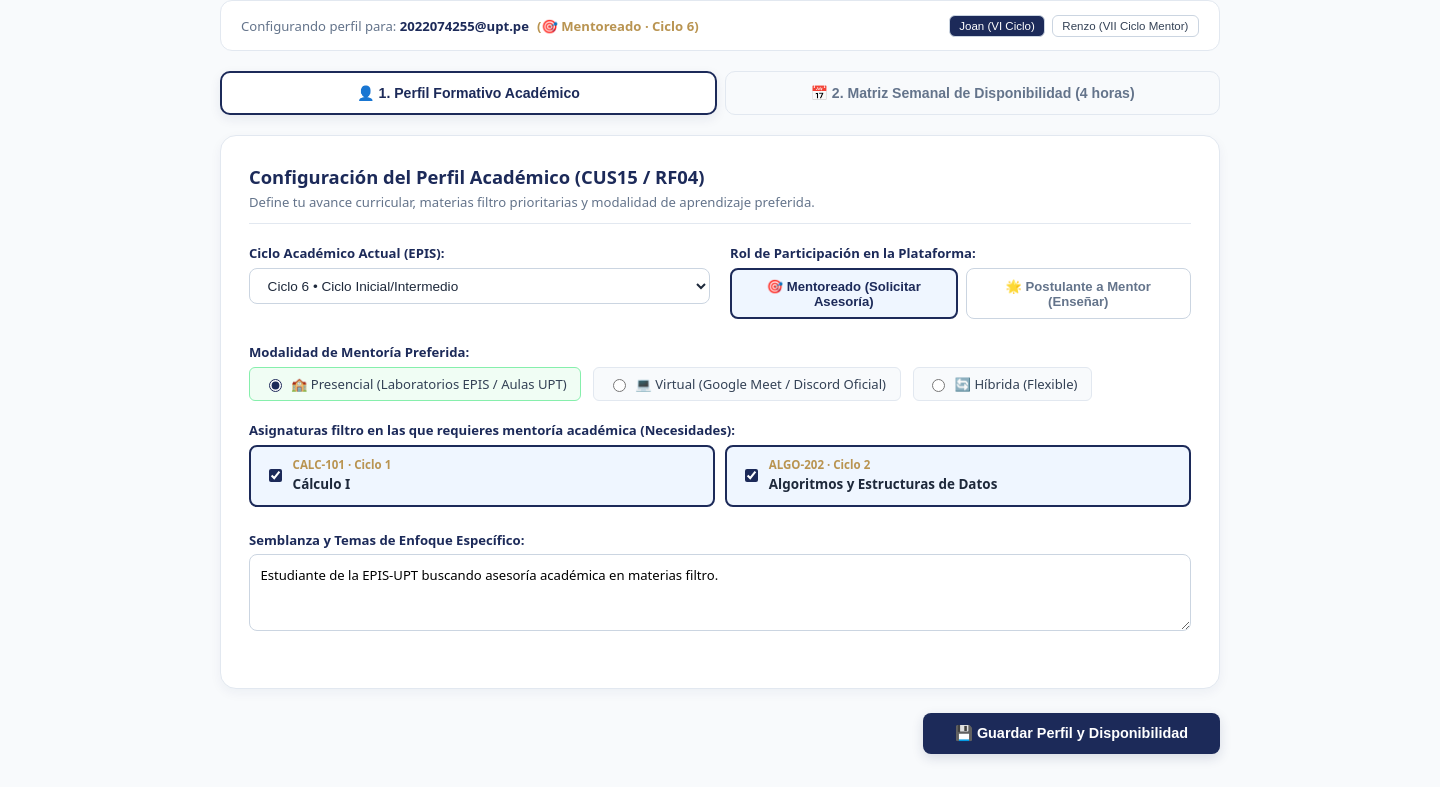
Test: ProfileAvailabilityView Component (T-11 / RF04 / CUS15) › 4. Permite usar el botón de Limpiar para vaciar la selección horaria
Click the button "📅 2. Matriz Semanal de Disponibilidad (4 horas)" at (972, 93), box x1=725 y1=71 x2=1220 y2=115
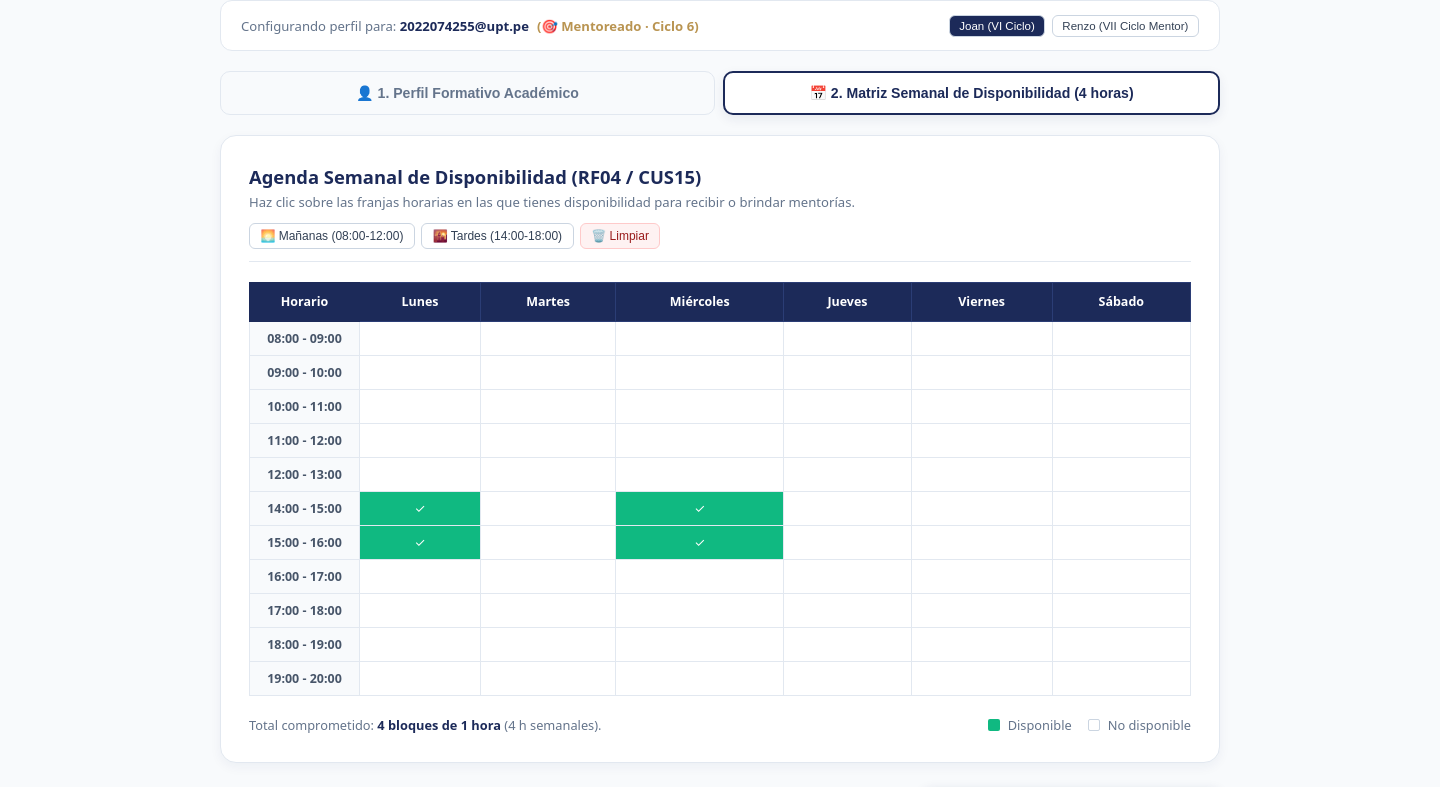
Click the button "🗑️ Limpiar" at (620, 236), box x1=580 y1=223 x2=660 y2=249
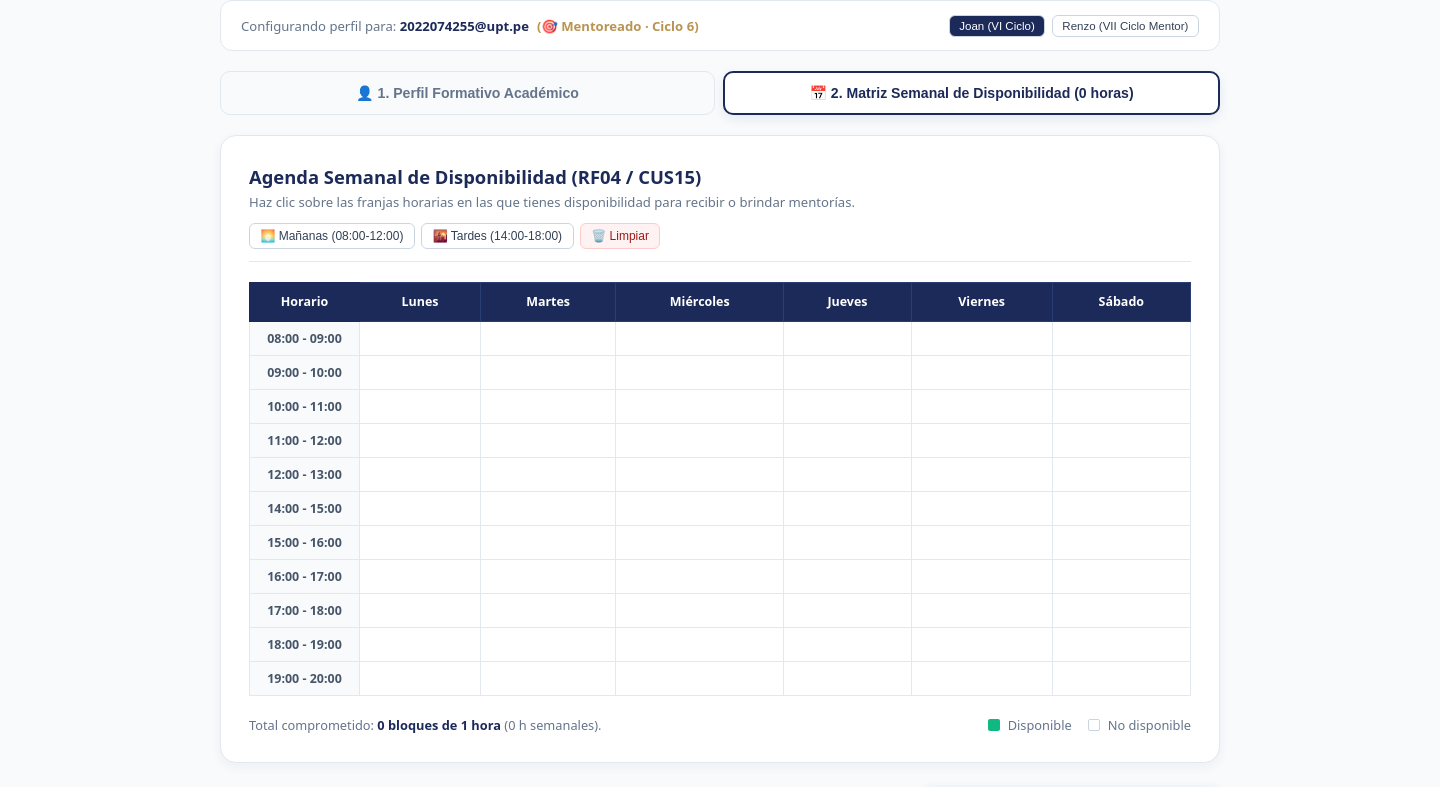
expect the text "0 bloques de 1 hora" is shown: met, box x1=377 y1=716 x2=501 y2=734
